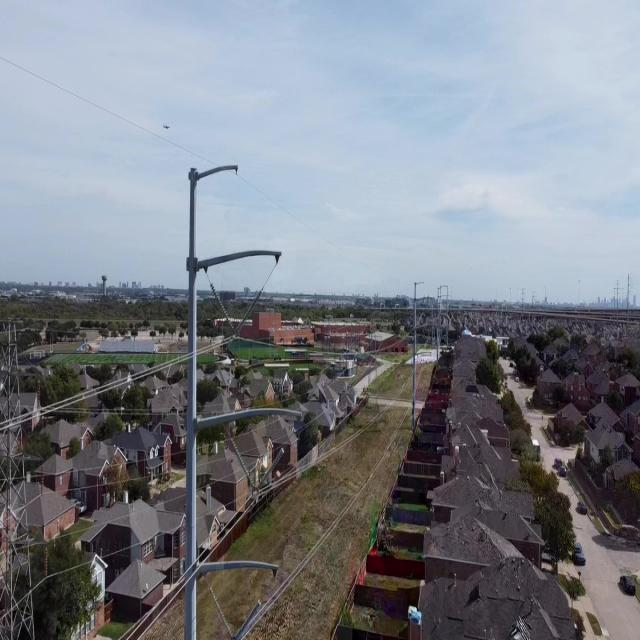杆塔: (0, 294, 41, 640)
正常绝缘子: (251, 439, 288, 496), (228, 433, 260, 495), (228, 286, 264, 339), (209, 281, 239, 339), (228, 595, 264, 640), (207, 585, 238, 637)
